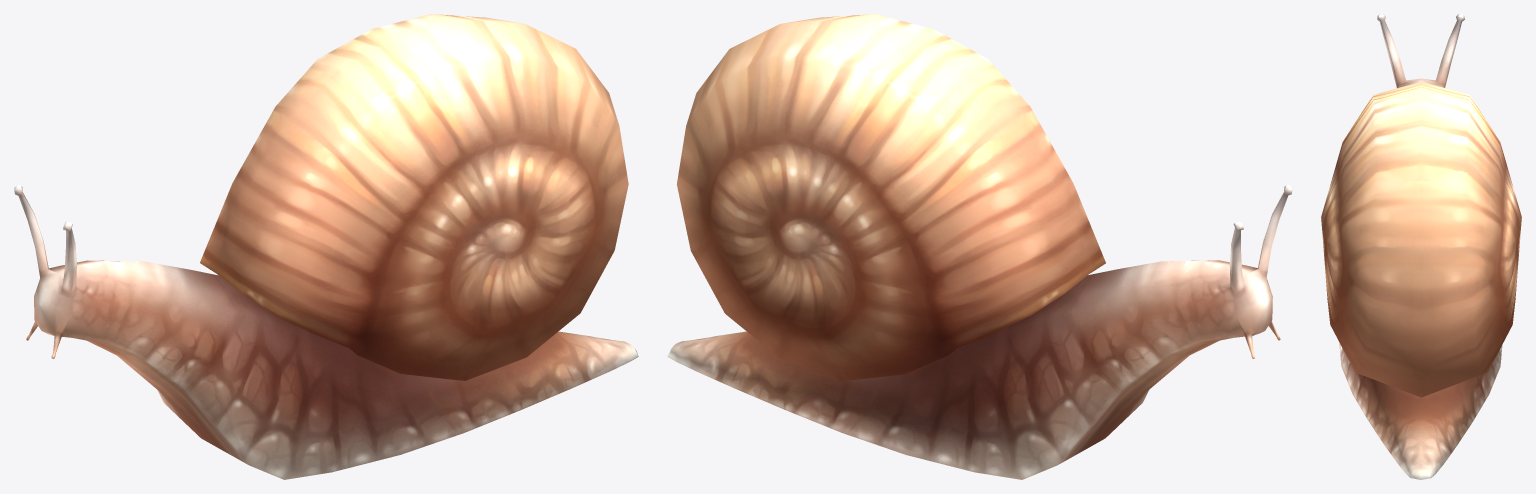
Rendered from snail2.glb.
3 renders of one model, left to right at view 1: azimuth 30°, elevation 25°; view 2: azimuth 150°, elevation 25°; view 3: azimuth 270°, elevation 25°, orthographic. The views are drawn at different scales.
Parts seen in each view (by area): view 1: Cube; view 2: Cube; view 3: Cube.
Boxes of the visible parts, x1,y1,x2,y2 form: Cube: [14, 14, 638, 479]; Cube: [667, 14, 1292, 479]; Cube: [1321, 14, 1521, 479].
Bounding box in the file's own units: 3.69 × 2.2 × 1.34.
1 material, 1 textured.
